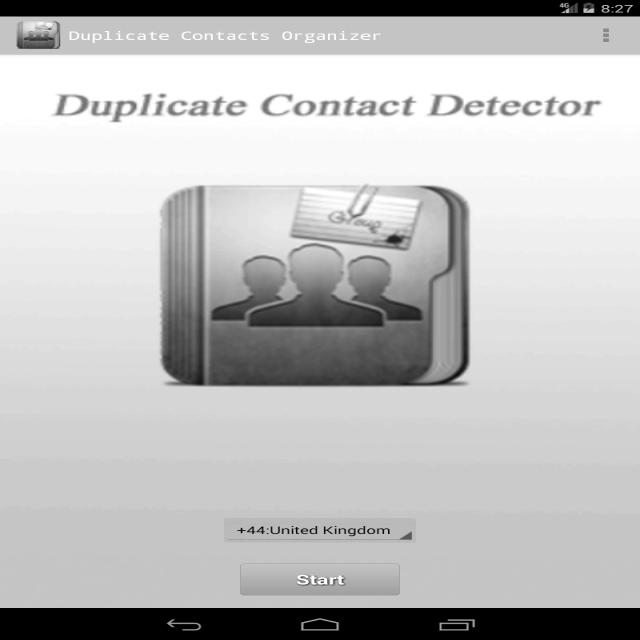Button: (230, 555, 412, 600)
ImageButton: (593, 22, 624, 48)
ImageView: (151, 186, 489, 382), (15, 19, 60, 51)
TextView: (48, 85, 595, 139), (73, 25, 383, 45), (236, 522, 404, 537)
